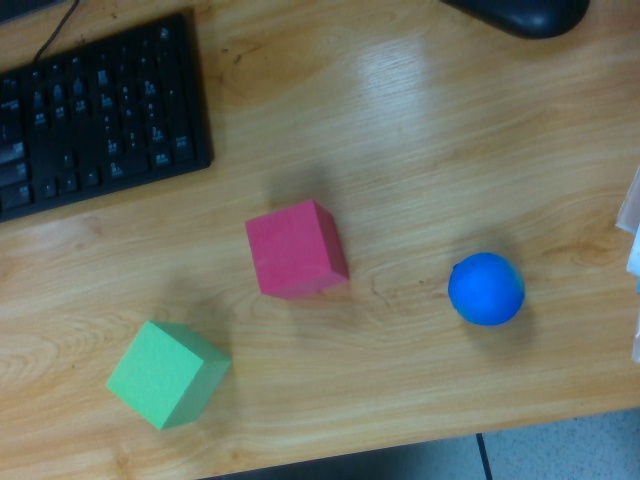blueball: (448, 251, 524, 326)
green: (105, 318, 233, 430)
red: (246, 198, 352, 299)
